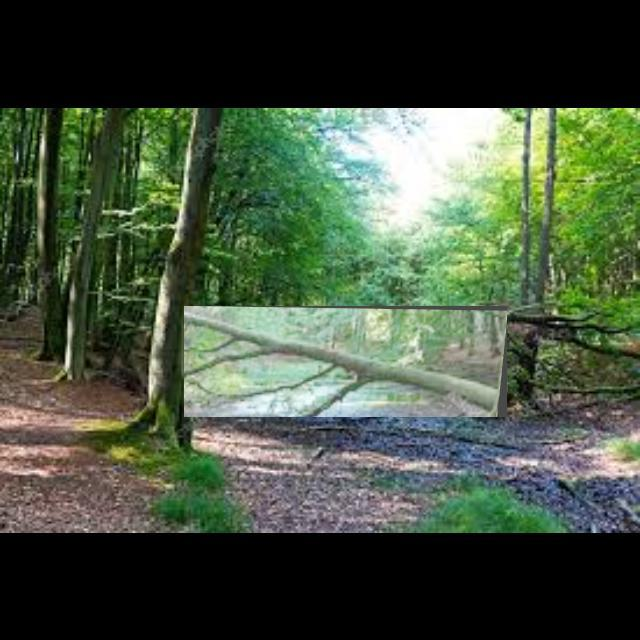fallen_tree: (184, 306, 508, 418)
